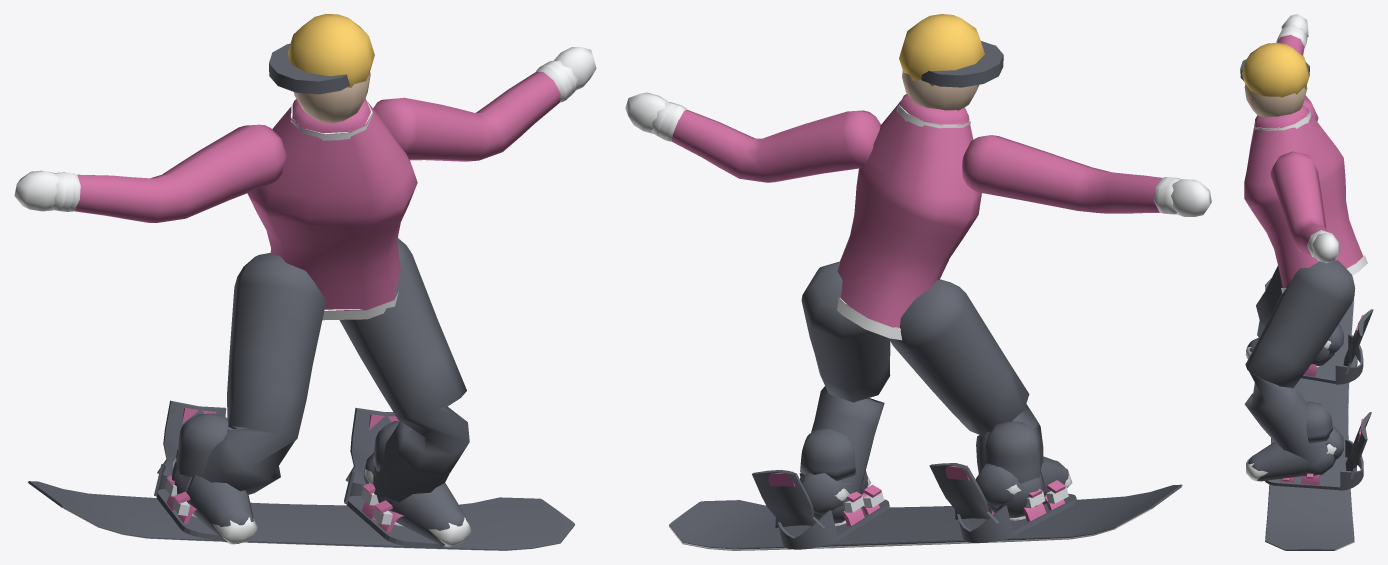
File: snowboard-gear-and-freestyle-riders-rider-tail-press-11a83954__27169.glb
3 renders of one model, left to right at view 1: azimuth 30°, elevation 25°; view 2: azimuth 150°, elevation 25°; view 3: azimuth 270°, elevation 25°, orthographic. The views are drawn at different scales.
Visible parts, largest first — view 1: rider-tail-press; view 2: rider-tail-press; view 3: rider-tail-press.
Boxes of the visible parts, x1,y1,x2,y2 form: rider-tail-press: (14, 14, 596, 550); rider-tail-press: (625, 14, 1211, 550); rider-tail-press: (1240, 14, 1373, 550).
Size of the model in its own units: 1.63 by 1.49 by 0.4316.
